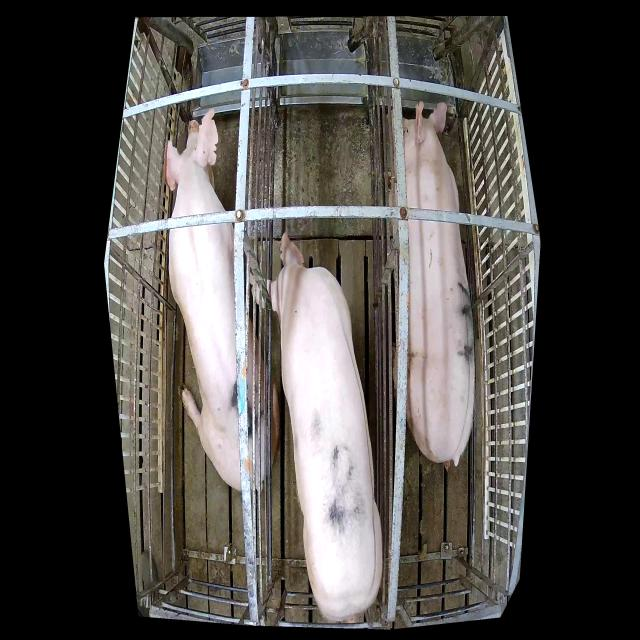pig: (249, 231, 383, 621), (162, 109, 278, 490), (389, 102, 475, 470)
